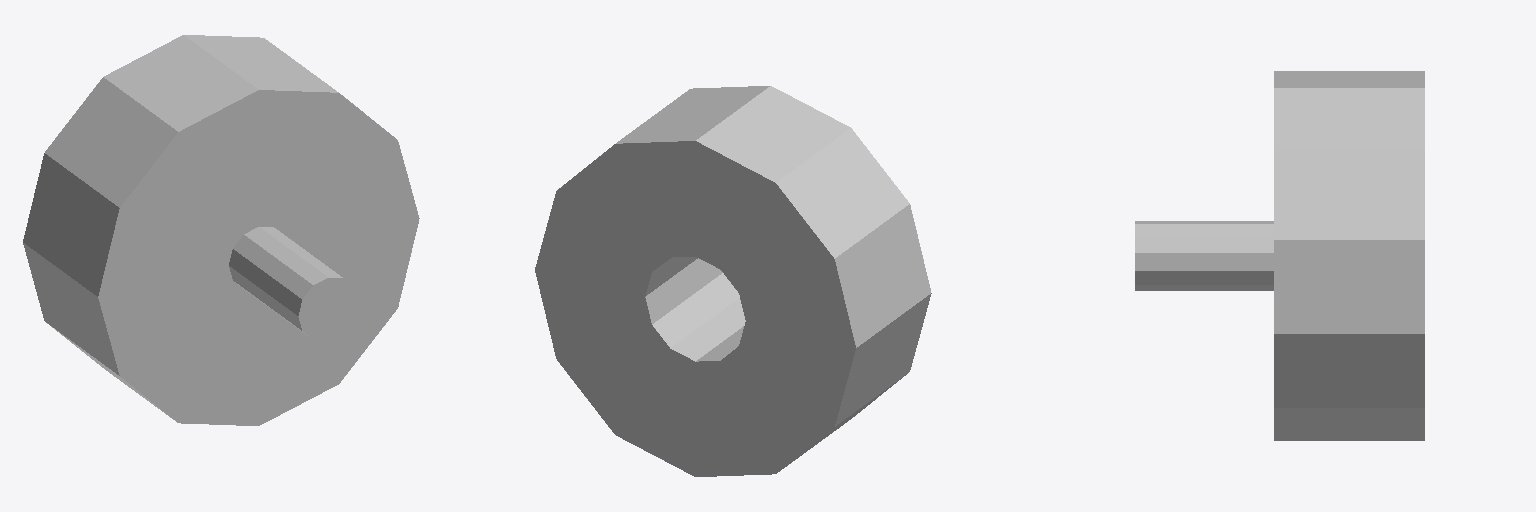
The picture shows the model from 3 angles: view 1: azimuth 30°, elevation 25°; view 2: azimuth 150°, elevation 25°; view 3: azimuth 270°, elevation 25°; orthographic projection.
Parts seen in each view (by area): view 1: Cylinder.body_Cylinder.004; view 2: Cylinder.body_Cylinder.004; view 3: Cylinder.body_Cylinder.004.
Part boxes in pixels (bbox=[...]): Cylinder.body_Cylinder.004: bbox=[23, 35, 419, 425]; Cylinder.body_Cylinder.004: bbox=[535, 86, 931, 476]; Cylinder.body_Cylinder.004: bbox=[1135, 71, 1424, 440].
Bounding box in the file's own units: 0.16 × 0.16 × 0.125.